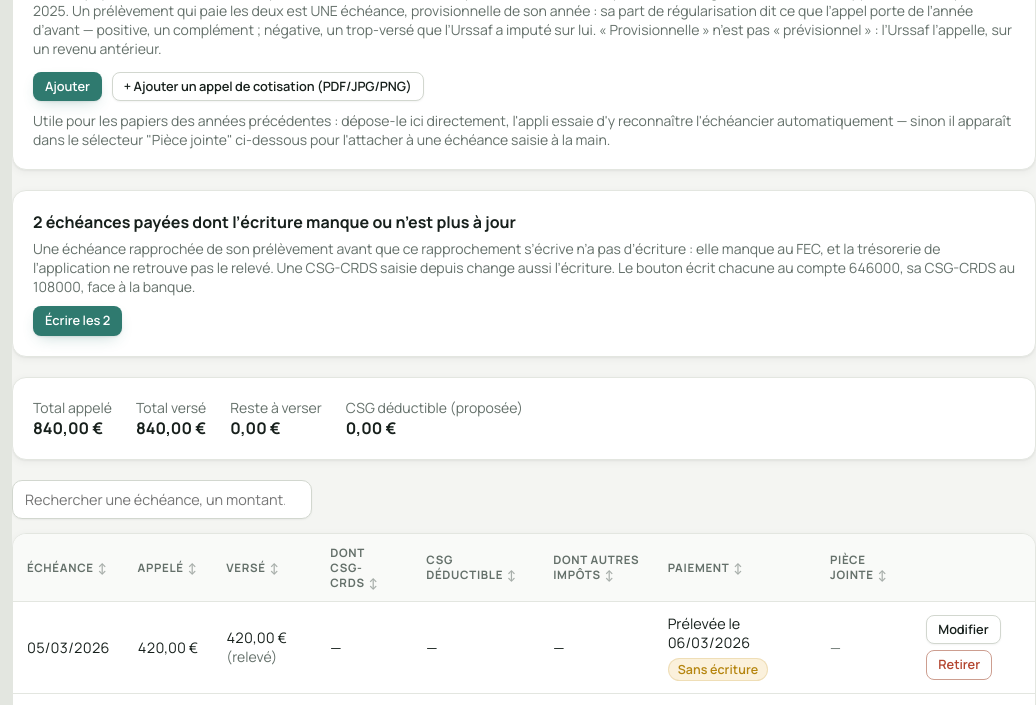
Test case: CotisationsTab — écrire les échéances payées › « Retirer » attend la fin du lot : retirée pendant, une échéance serait réécrite par le lot
The width and height of the screenshot is (1036, 705).
(page scrolled)
Click the button "Écrire les 2" at (78, 321), box top-left (33, 306), bottom-right (122, 336)
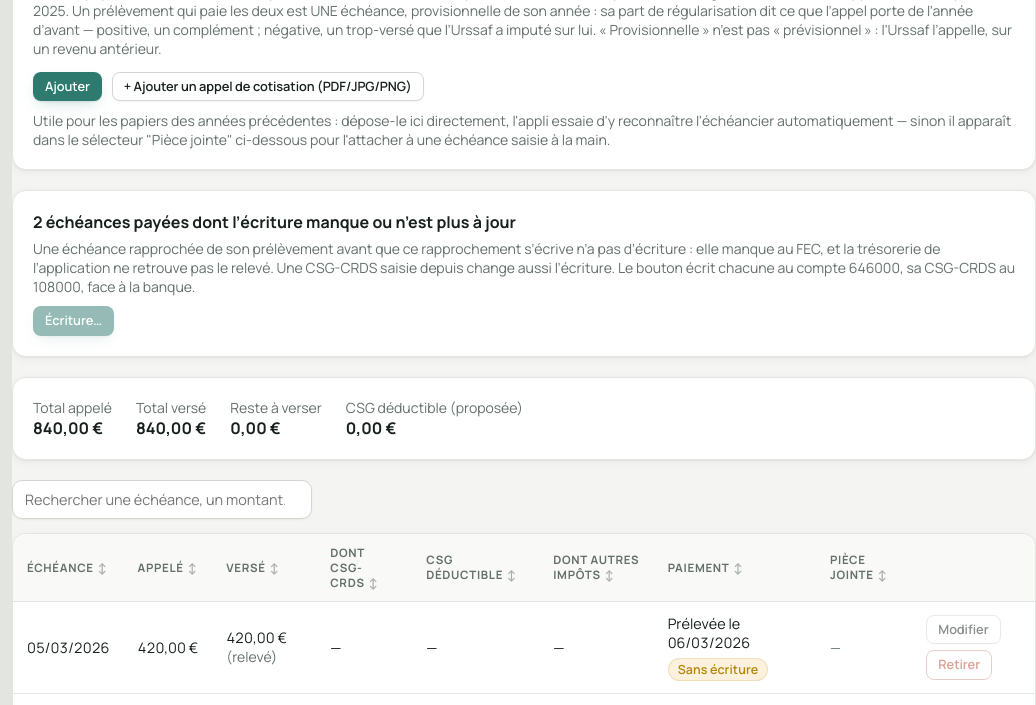
Click the button "Retirer" at (959, 665), box top-left (926, 650), bottom-right (992, 680)
(page scrolled)
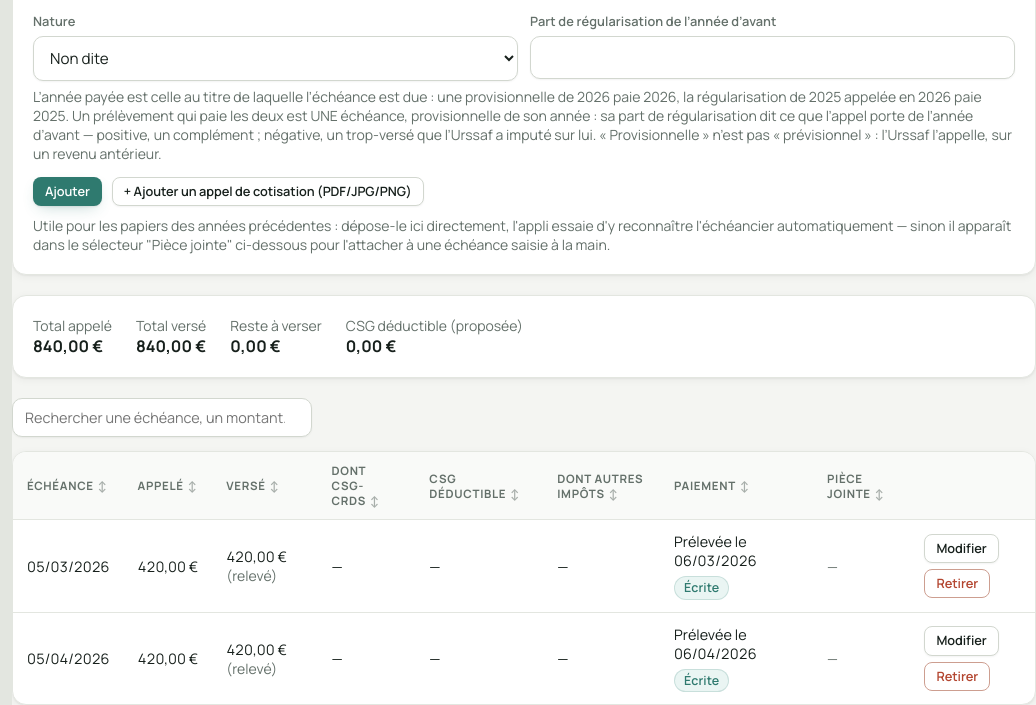
Check: the text "dont l’écriture manque" is gone
